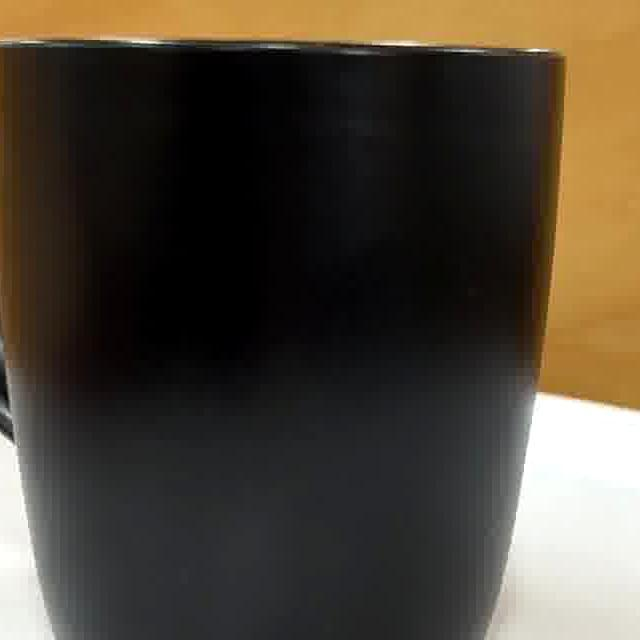cup: (0, 41, 560, 640)
